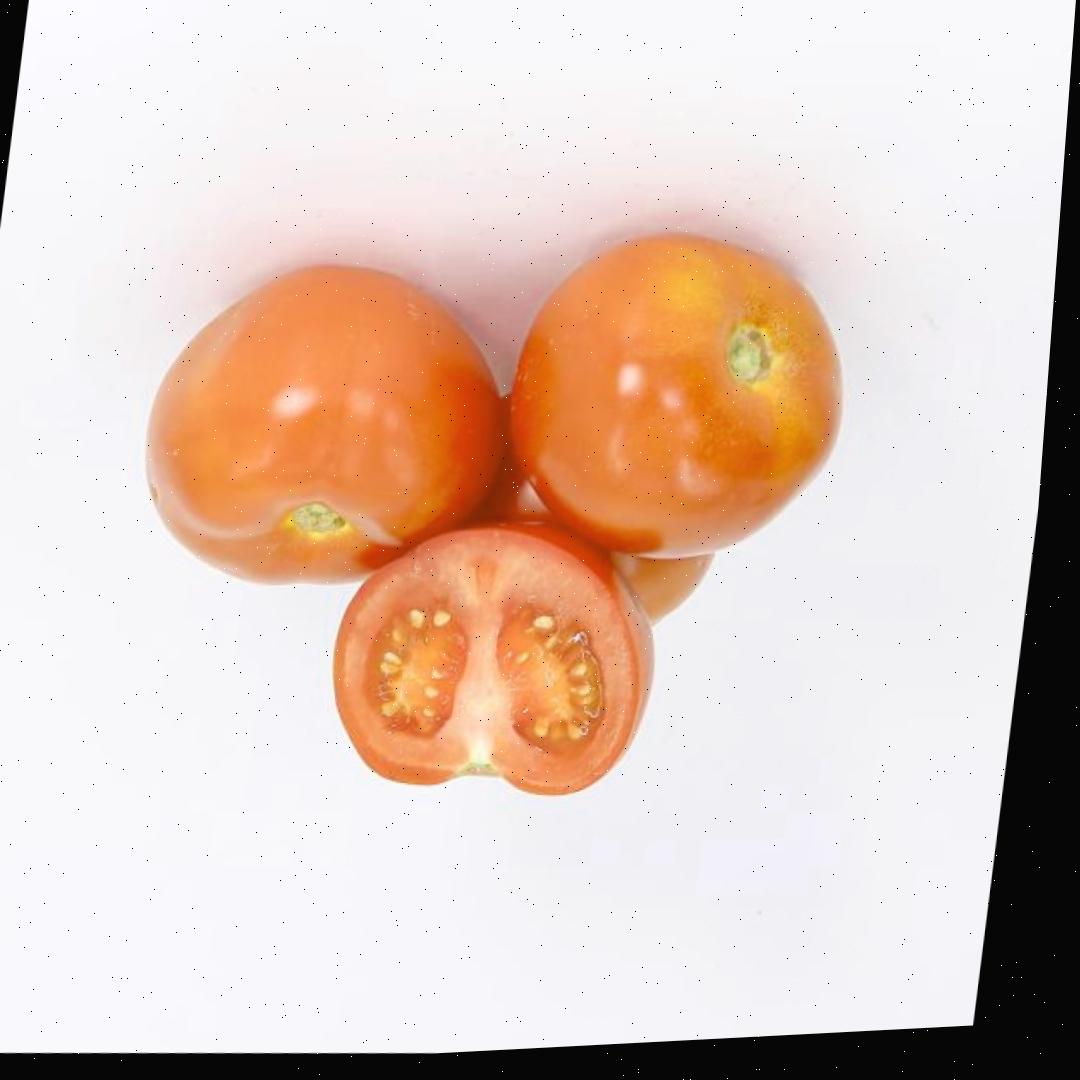matang: (123, 244, 526, 605), (488, 215, 866, 574), (312, 505, 666, 810)
